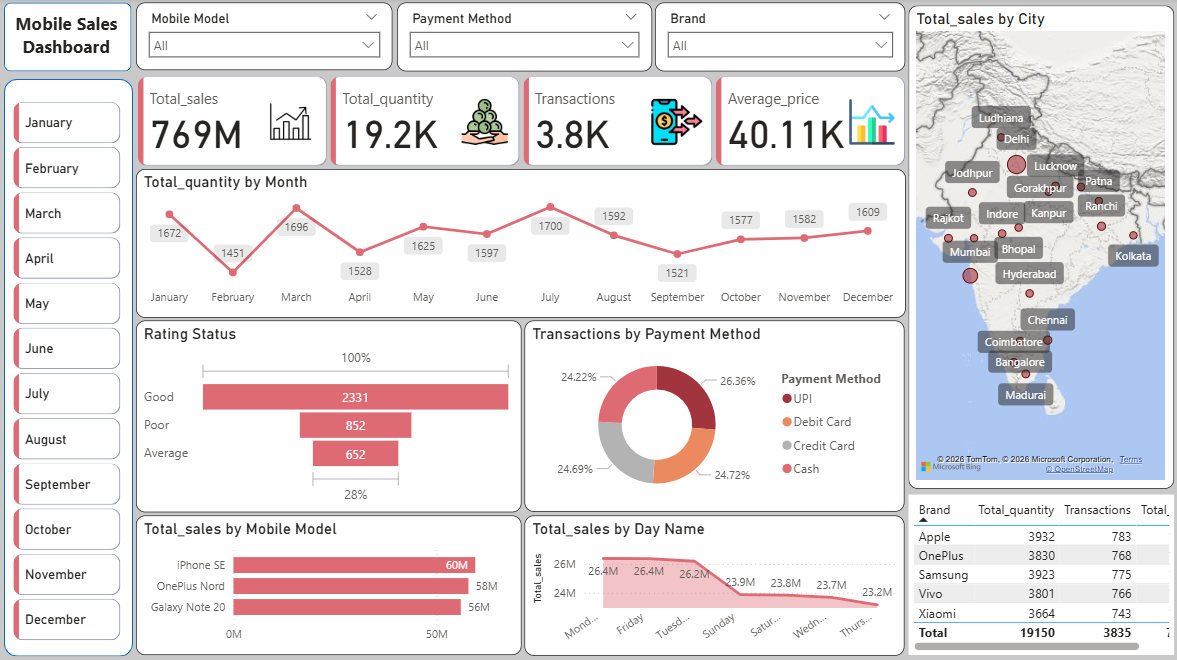

The page's visual inventory and layout, read from the dashboard file:
{"tool":"powerbi","page":{"name":"Dashboard","canvas":[1280,720],"ordinal":0},"visuals":[{"type":"shape","box":[6.2,88,139.9,626.2],"z":3000},{"type":"advancedSlicerVisual","fields":{"Values":["Custom_Calander.Date.Variation.Date Hierarchy.Month"]},"box":[11,107.5,126.9,603.4],"z":4000},{"type":"cardVisual","fields":{"Data":["Mobile_Sales_Data.Total_sales","Mobile_Sales_Data.Total_quantity","Mobile_Sales_Data.Transactions","Mobile_Sales_Data.Average_price"]},"box":[146,80.5,845.8,107.4],"z":5000},{"type":"slicer","fields":{"Values":["Mobile_Sales_Data.Mobile Model"]},"box":[149.3,5.6,278.1,73.2],"z":6000},{"type":"slicer","fields":{"Values":["Mobile_Sales_Data.Payment Method"]},"box":[432.3,5.6,276.5,74.8],"z":7000},{"type":"slicer","fields":{"Values":["Mobile_Sales_Data.Brand"]},"box":[712.1,5.6,271.6,74.8],"z":8000},{"type":"shape","box":[6.2,4.9,138.3,74.8],"z":12000},{"type":"textbox","box":[9.4,9.8,128.5,65.1],"z":13000},{"type":"lineChart","fields":{"Category":["Custom_Calander.Date.Variation.Date Hierarchy.Month"],"Y":["Mobile_Sales_Data.Total_quantity"]},"box":[149.3,185.6,834.4,161],"z":14000},{"type":"funnel","title":"Rating Status","fields":{"Category":["Mobile_Sales_Data.Rating Status"],"Y":["CountNonNull(Mobile_Sales_Data.Customer Ratings)"]},"box":[149.3,349.9,418,208.2],"z":15000},{"type":"donutChart","fields":{"Y":["Mobile_Sales_Data.Transactions"],"Category":["Mobile_Sales_Data.Payment Method"]},"box":[571.1,350,411.8,207.3],"z":16000},{"type":"clusteredBarChart","fields":{"Category":["Mobile_Sales_Data.Mobile Model"],"Y":["Mobile_Sales_Data.Total_sales"]},"box":[149.3,561.3,418,151.3],"z":17000},{"type":"areaChart","fields":{"Y":["Mobile_Sales_Data.Total_sales"],"Category":["Custom_Calander.Day Name"]},"box":[571.2,560.8,411.7,151.7],"z":18000},{"type":"map","fields":{"Category":["Mobile_Sales_Data.City"],"Size":["Mobile_Sales_Data.Total_sales"]},"box":[987.3,8.1,287.9,523.7],"z":19000},{"type":"tableEx","fields":{"Values":["Mobile_Sales_Data.Brand","Mobile_Sales_Data.Total_quantity","Mobile_Sales_Data.Transactions","Mobile_Sales_Data.Total_sales"]},"box":[987.3,538.4,287.9,174],"z":20000}]}

Visuals, with their boxes in screenshot pixels (x1, y1, x2, y2), scaled from the page's 1280x720 canvas onto the 1177x660 screenshot:
shape: bbox=(6, 81, 134, 655)
advancedSlicerVisual - Custom_Calander.Date.Variation.Date Hierarchy.Month: bbox=(10, 99, 127, 652)
cardVisual - Mobile_Sales_Data.Total_sales x Mobile_Sales_Data.Total_quantity: bbox=(134, 74, 912, 172)
slicer - Mobile_Sales_Data.Mobile Model: bbox=(137, 5, 393, 72)
slicer - Mobile_Sales_Data.Payment Method: bbox=(398, 5, 652, 74)
slicer - Mobile_Sales_Data.Brand: bbox=(655, 5, 905, 74)
shape: bbox=(6, 4, 133, 73)
textbox: bbox=(9, 9, 127, 69)
lineChart - Custom_Calander.Date.Variation.Date Hierarchy.Month x Mobile_Sales_Data.Total_quantity: bbox=(137, 170, 905, 318)
"Rating Status" funnel: bbox=(137, 321, 522, 512)
donutChart - Mobile_Sales_Data.Transactions x Mobile_Sales_Data.Payment Method: bbox=(525, 321, 904, 511)
clusteredBarChart - Mobile_Sales_Data.Mobile Model x Mobile_Sales_Data.Total_sales: bbox=(137, 515, 522, 653)
areaChart - Mobile_Sales_Data.Total_sales x Custom_Calander.Day Name: bbox=(525, 514, 904, 653)
map - Mobile_Sales_Data.City x Mobile_Sales_Data.Total_sales: bbox=(908, 7, 1173, 487)
tableEx - Mobile_Sales_Data.Brand x Mobile_Sales_Data.Total_quantity: bbox=(908, 494, 1173, 653)
